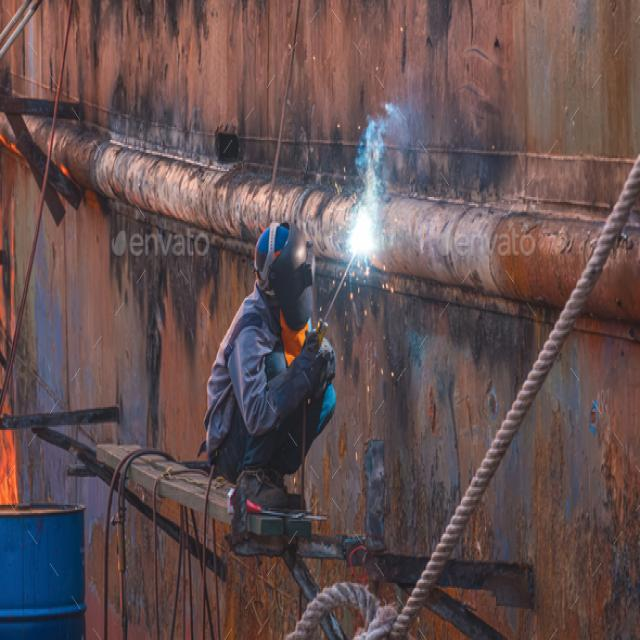welding: (349, 212, 376, 258)
